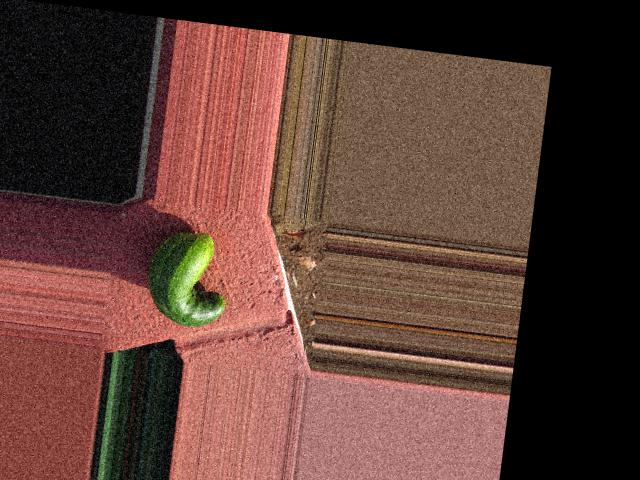cucumber: (143, 227, 235, 330)
